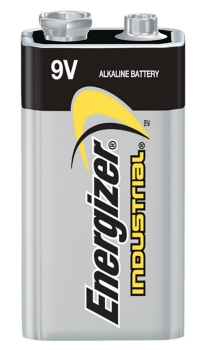9V: (18, 8, 189, 344)
